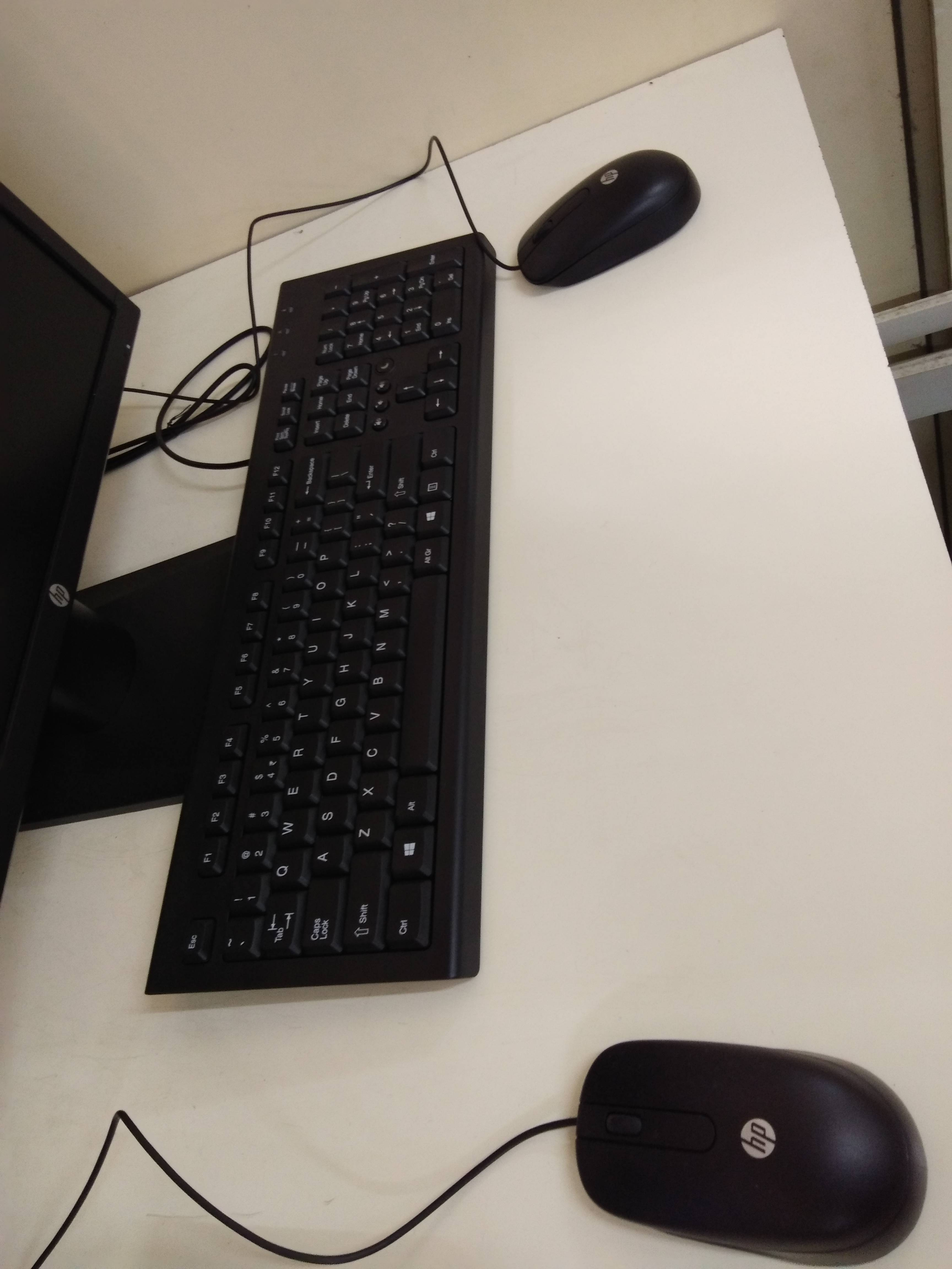Electronics: (129, 223, 510, 1034), (551, 1026, 952, 1266), (508, 115, 715, 304)
